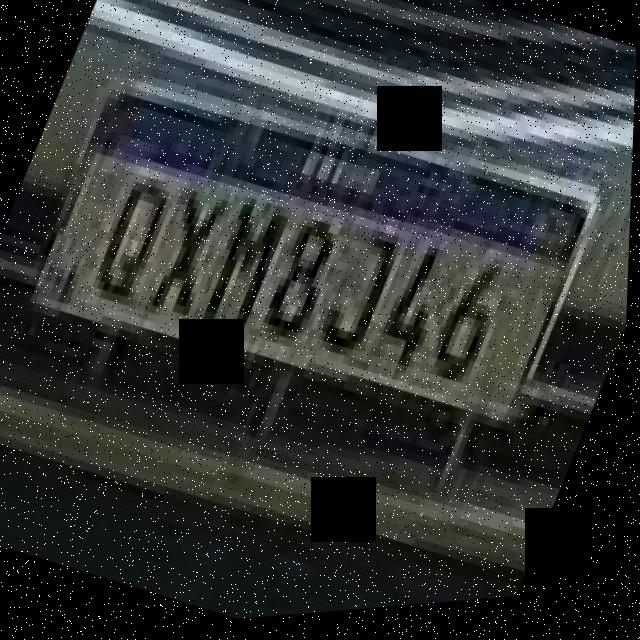4: (368, 235, 471, 389)
6: (426, 251, 529, 403)
8: (256, 209, 356, 359)
J: (310, 216, 419, 376)
M: (192, 191, 297, 347)
Q: (80, 158, 190, 323)
X: (139, 177, 241, 329)
